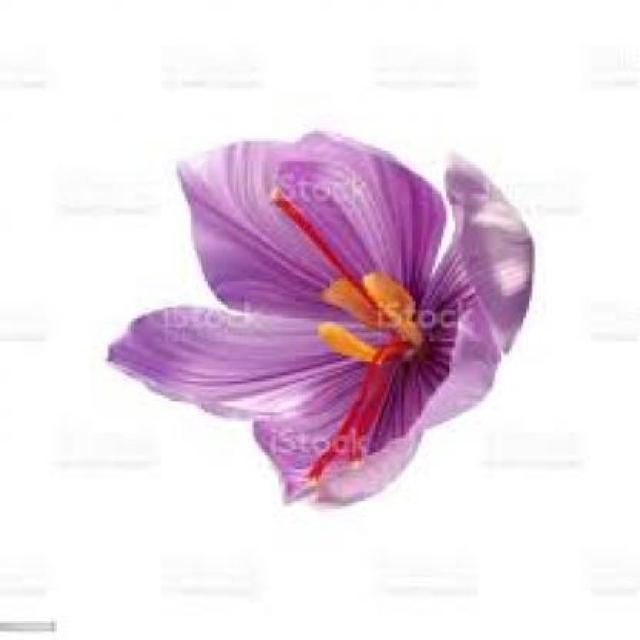Flower: (85, 132, 540, 514)
stigma: (300, 343, 391, 488), (268, 189, 374, 301), (343, 358, 402, 463)
